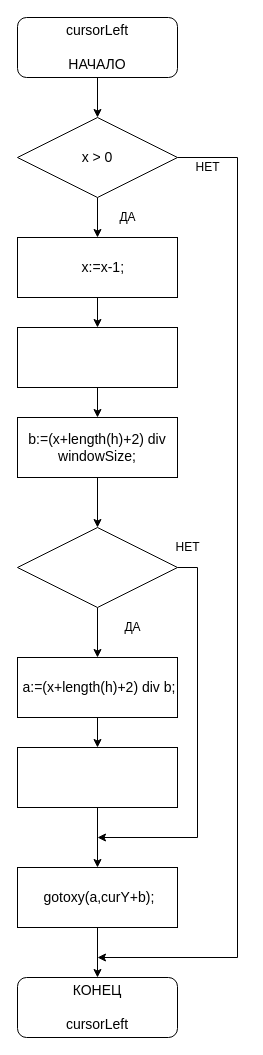
Some shapes in this 263 by 1055 pixel diagram are drawn without their labels. Here are the shapes that lost their labels. From the top down, the centre of each, then its label:
the point at 97,357: a:=(x+length(h)+2) mod windowSize;
the point at 97,567: a = 0
the point at 97,777: b:=b-1;
